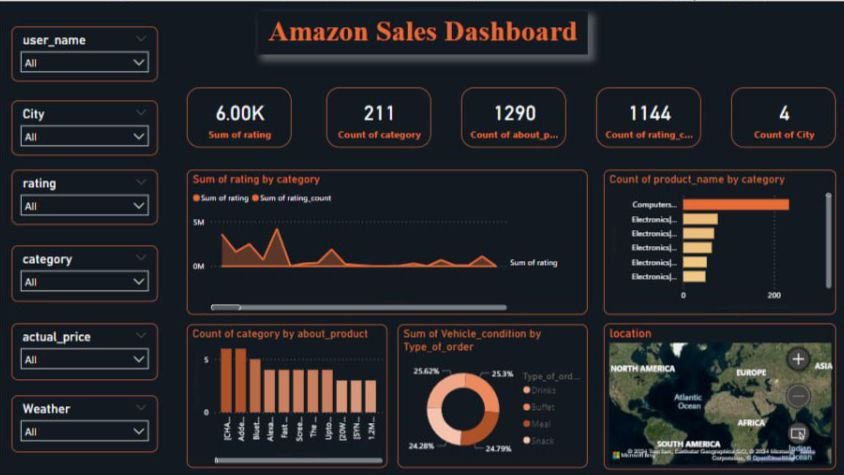

What the dashboard file says about the page in this screenshot:
{"tool":"powerbi","page":{"name":"Page 1","canvas":[1280,720],"ordinal":0},"visuals":[{"type":"filledMap","title":"location","fields":{"X":["Sum(cleaned_test.Delivery_location_longitude)"]},"box":[912.4,486.6,350.8,220.7],"z":0},{"type":"slicer","fields":{"Values":["Amazon.actual_price"]},"box":[18.4,486.6,220.7,86.3],"z":1000},{"type":"slicer","fields":{"Values":["Amazon.category"]},"box":[18.4,369.2,220.7,84.9],"z":2000},{"type":"slicer","fields":{"Values":["Amazon.rating"]},"box":[18.4,254.6,220.7,83.5],"z":3000},{"type":"slicer","fields":{"Values":["cleaned_test.City"]},"box":[18.4,149.9,220.7,83.5],"z":4000},{"type":"slicer","fields":{"Values":["cleaned_test.Weather"]},"box":[18.4,595.5,220.7,86.3],"z":5000},{"type":"textbox","box":[390.4,15.6,497.9,65.1],"z":6000},{"type":"card","fields":{"Values":["Sum(Amazon.rating)"]},"box":[282.9,130.1,158.4,90.5],"z":8000},{"type":"card","fields":{"Values":["Count(Amazon.category)"]},"box":[493.7,130.1,158.4,90.5],"z":9000},{"type":"card","fields":{"Values":["Count(Amazon.about_product)"]},"box":[697.4,130.1,158.4,90.5],"z":10000},{"type":"card","fields":{"Values":["Count(Amazon.rating_count)"]},"box":[901.1,130.1,158.4,90.5],"z":11000},{"type":"card","fields":{"Values":["Count(cleaned_test.City)"]},"box":[1104.8,130.1,158.4,90.5],"z":12000},{"type":"areaChart","title":"Sum of rating by category","fields":{"Category":["Amazon.category"],"Y":["Sum(Amazon.rating)","Sum(Amazon.rating_count)"]},"box":[282.9,254.6,605.4,219.3],"z":13000},{"type":"barChart","fields":{"Category":["Amazon.category"],"Y":["CountNonNull(Amazon.product_name)"]},"box":[912.4,254.6,350.8,219.3],"z":14000},{"type":"donutChart","fields":{"Category":["cleaned_test.Type_of_order"],"Y":["Sum(cleaned_test.Vehicle_condition)"]},"box":[601.4,488.6,287.1,217.1],"z":15000},{"type":"columnChart","fields":{"Category":["Amazon.about_product"],"Y":["CountNonNull(Amazon.category)"]},"box":[282.9,488.6,302.9,217.1],"z":16000},{"type":"slicer","fields":{"Values":["Amazon.user_name"]},"box":[18.4,38.2,220.7,83.5],"z":16001}]}

Visuals, with their boxes in screenshot pixels (x1, y1, x2, y2), scaled from the page's 1280x720 canvas onto the 844x475 screenshot:
"location" filledMap: 602/321/833/467
slicer - Amazon.actual_price: 12/321/158/378
slicer - Amazon.category: 12/244/158/300
slicer - Amazon.rating: 12/168/158/223
slicer - cleaned_test.City: 12/99/158/154
slicer - cleaned_test.Weather: 12/393/158/450
textbox: 257/10/586/53
card - Sum(Amazon.rating): 187/86/291/146
card - Count(Amazon.category): 326/86/430/146
card - Count(Amazon.about_product): 460/86/564/146
card - Count(Amazon.rating_count): 594/86/699/146
card - Count(cleaned_test.City): 728/86/833/146
"Sum of rating by category" areaChart: 187/168/586/313
barChart - Amazon.category x CountNonNull(Amazon.product_name): 602/168/833/313
donutChart - cleaned_test.Type_of_order x Sum(cleaned_test.Vehicle_condition): 397/322/586/466
columnChart - Amazon.about_product x CountNonNull(Amazon.category): 187/322/386/466
slicer - Amazon.user_name: 12/25/158/80
